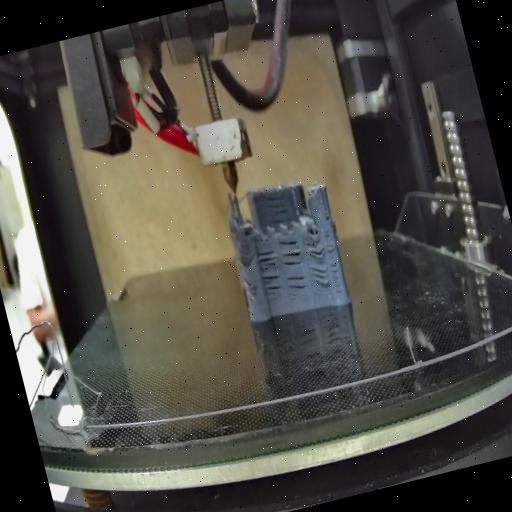cracks: (322, 235, 346, 296), (262, 190, 292, 228), (277, 236, 305, 270), (282, 273, 309, 301), (261, 272, 284, 300), (304, 236, 328, 262), (256, 245, 279, 271), (310, 264, 331, 290), (236, 246, 252, 266), (244, 276, 256, 292), (322, 210, 331, 224)
